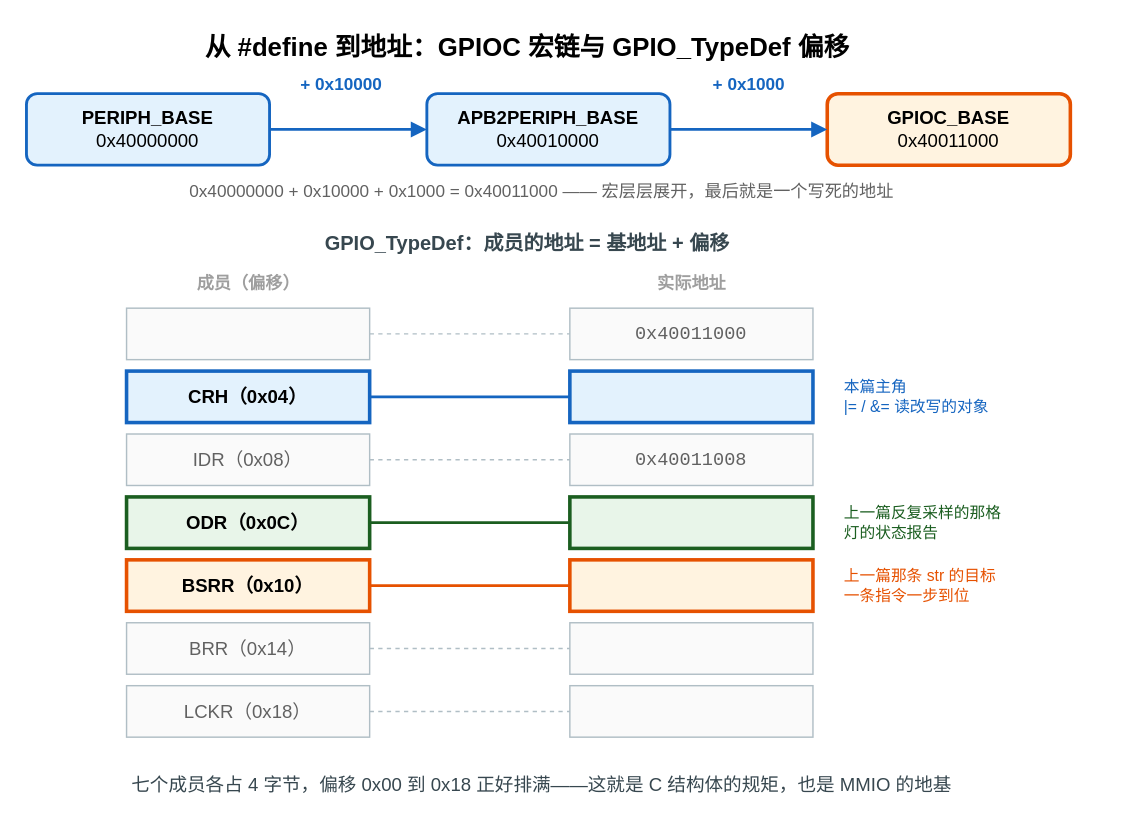
The diagram is 1137 pixels wide and 827 high, and some of its shapes have lost their labels. The shapes that lost their labels are listed below. From the top down, each one's box as (x1, y1, x2, y2) in pixels, then its label:
(125, 307, 370, 360): CRL（0x00）
(567, 369, 814, 424): 0x40011004
(567, 494, 814, 550): 0x4001100C
(567, 557, 814, 612): 0x40011010
(568, 621, 813, 674): 0x40011014
(568, 684, 813, 737): 0x40011018
